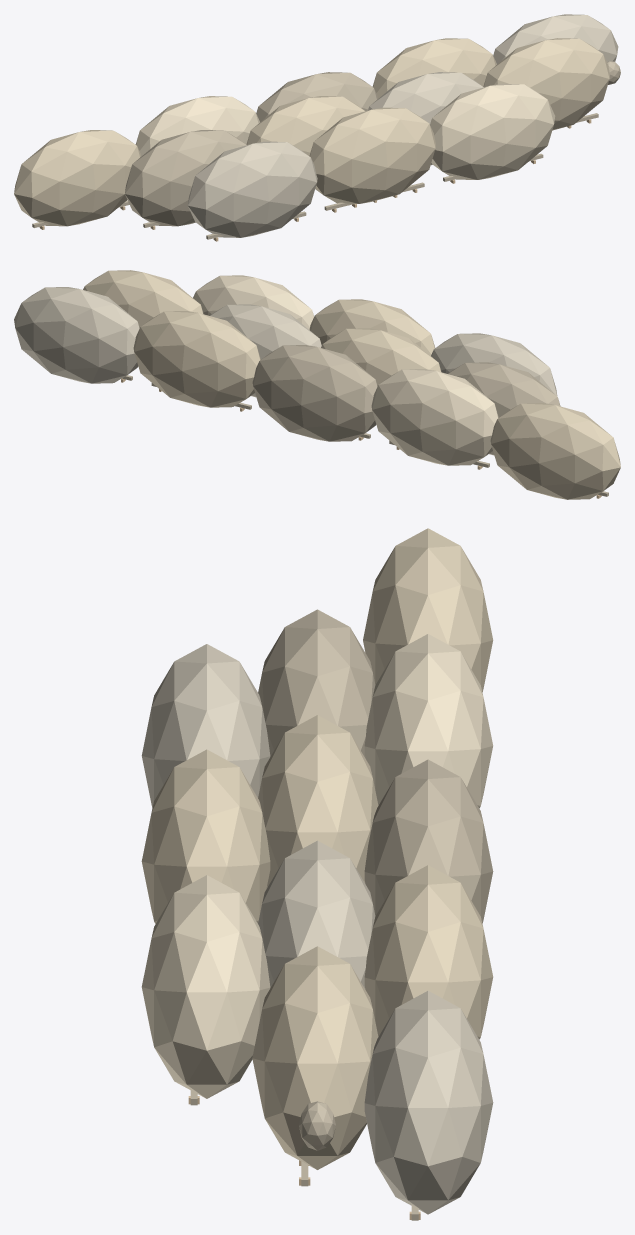
The model's file is 06_sandbag_flood_barrier.glb.
3 renders of one model, top to bottom at view 1: azimuth 30°, elevation 25°; view 2: azimuth 150°, elevation 25°; view 3: azimuth 270°, elevation 25°, orthographic. The views are drawn at different scales.
Visible parts, largest first — view 1: stuffed_burlap_bag_0068, stuffed_burlap_bag_0076, stuffed_burlap_bag_0083, stuffed_burlap_bag_0001, stuffed_burlap_bag_0060, stuffed_burlap_bag_0038, stuffed_burlap_bag_0023, stuffed_burlap_bag_0009, stuffed_burlap_bag_0046, stuffed_burlap_bag_0053, stuffed_burlap_bag_0031, stuffed_burlap_bag_0016; view 2: stuffed_burlap_bag_0001, stuffed_burlap_bag_0009, stuffed_burlap_bag_0023, stuffed_burlap_bag_0031, stuffed_burlap_bag_0016, stuffed_burlap_bag_0046, stuffed_burlap_bag_0060, stuffed_burlap_bag_0076, stuffed_burlap_bag_0068, stuffed_burlap_bag_0083, stuffed_burlap_bag_0038, stuffed_burlap_bag_0053; view 3: stuffed_burlap_bag_0031, stuffed_burlap_bag_0083, stuffed_burlap_bag_0060, stuffed_burlap_bag_0076, stuffed_burlap_bag_0009, stuffed_burlap_bag_0023, stuffed_burlap_bag_0046, stuffed_burlap_bag_0001, stuffed_burlap_bag_0016, stuffed_burlap_bag_0068, stuffed_burlap_bag_0053, stuffed_burlap_bag_0038 (+1 smaller).
Boxes of the visible parts, left/top/right/bottom form: stuffed_burlap_bag_0068: left=187, top=141, right=317, bottom=237; stuffed_burlap_bag_0076: left=309, top=107, right=435, bottom=203; stuffed_burlap_bag_0083: left=430, top=83, right=555, bottom=179; stuffed_burlap_bag_0001: left=14, top=130, right=140, bottom=226; stuffed_burlap_bag_0060: left=483, top=38, right=610, bottom=130; stuffed_burlap_bag_0038: left=125, top=130, right=246, bottom=226; stuffed_burlap_bag_0023: left=372, top=38, right=496, bottom=98; stuffed_burlap_bag_0009: left=135, top=96, right=259, bottom=156; stuffed_burlap_bag_0046: left=246, top=96, right=364, bottom=155; stuffed_burlap_bag_0053: left=368, top=72, right=483, bottom=165; stuffed_burlap_bag_0031: left=493, top=14, right=618, bottom=64; stuffed_burlap_bag_0016: left=256, top=72, right=377, bottom=121; stuffed_burlap_bag_0001: left=490, top=403, right=620, bottom=499; stuffed_burlap_bag_0009: left=371, top=369, right=498, bottom=465; stuffed_burlap_bag_0023: left=133, top=311, right=260, bottom=407; stuffed_burlap_bag_0031: left=14, top=287, right=139, bottom=383; stuffed_burlap_bag_0016: left=252, top=345, right=377, bottom=441; stuffed_burlap_bag_0046: left=321, top=328, right=441, bottom=385; stuffed_burlap_bag_0060: left=83, top=270, right=203, bottom=327; stuffed_burlap_bag_0076: left=309, top=299, right=435, bottom=355; stuffed_burlap_bag_0068: left=431, top=333, right=557, bottom=395; stuffed_burlap_bag_0083: left=193, top=275, right=313, bottom=329; stuffed_burlap_bag_0038: left=448, top=362, right=560, bottom=455; stuffed_burlap_bag_0053: left=210, top=304, right=321, bottom=397; stuffed_burlap_bag_0031: left=364, top=991, right=493, bottom=1214; stuffed_burlap_bag_0083: left=141, top=875, right=270, bottom=1098; stuffed_burlap_bag_0060: left=252, top=946, right=378, bottom=1169; stuffed_burlap_bag_0076: left=141, top=749, right=270, bottom=923; stuffed_burlap_bag_0009: left=364, top=634, right=493, bottom=808; stuffed_burlap_bag_0023: left=364, top=865, right=493, bottom=1039; stuffed_burlap_bag_0046: left=258, top=715, right=378, bottom=888; stuffed_burlap_bag_0001: left=363, top=528, right=493, bottom=692; stuffed_burlap_bag_0016: left=364, top=759, right=493, bottom=923; stuffed_burlap_bag_0068: left=141, top=644, right=270, bottom=807; stuffed_burlap_bag_0053: left=258, top=840, right=375, bottom=989; stuffed_burlap_bag_0038: left=258, top=609, right=375, bottom=757.
Bounding box in the file's own units: 2.4 × 0.369 × 0.604.
